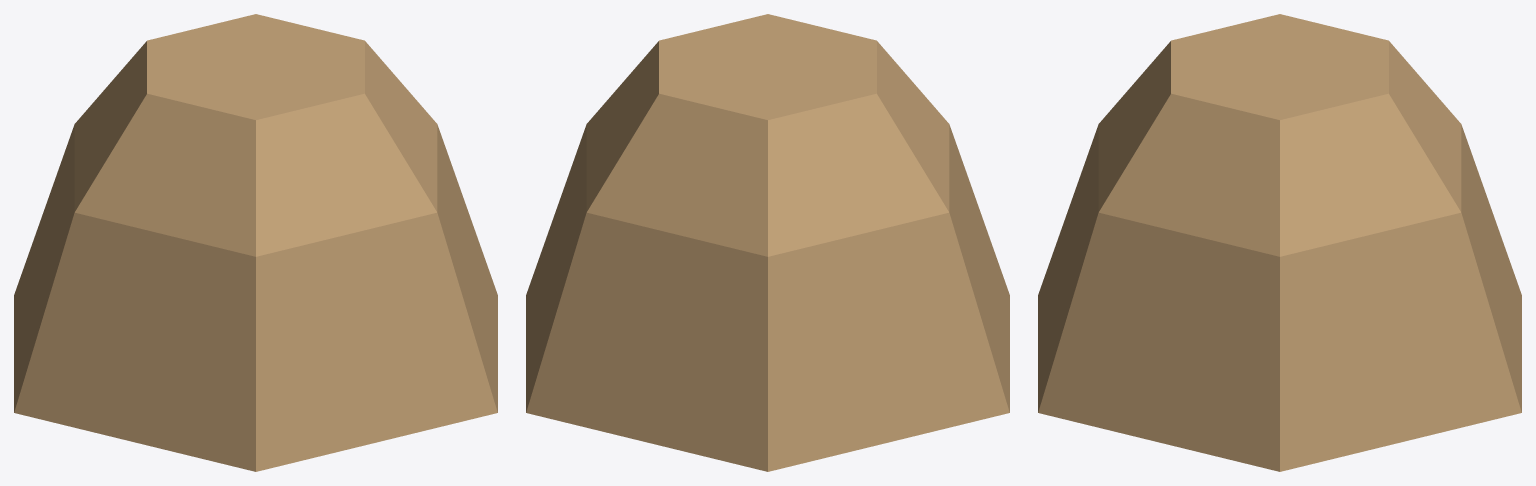
Rendered from prop-brace-pad-blank-bb2.fbx.
3 views of the same model, side by side, from view 1: azimuth 30°, elevation 25°; view 2: azimuth 150°, elevation 25°; view 3: azimuth 270°, elevation 25° (orthographic).
Parts seen in each view (by area): view 1: prop-brace-pad-blank-bb2; view 2: prop-brace-pad-blank-bb2; view 3: prop-brace-pad-blank-bb2.
Boxes of the visible parts, x1,y1,x2,y2 form: prop-brace-pad-blank-bb2: (14,14,497,471); prop-brace-pad-blank-bb2: (526,14,1009,471); prop-brace-pad-blank-bb2: (1038,14,1521,471).
Size of the model in its own units: 6 by 3.4 by 5.2.
